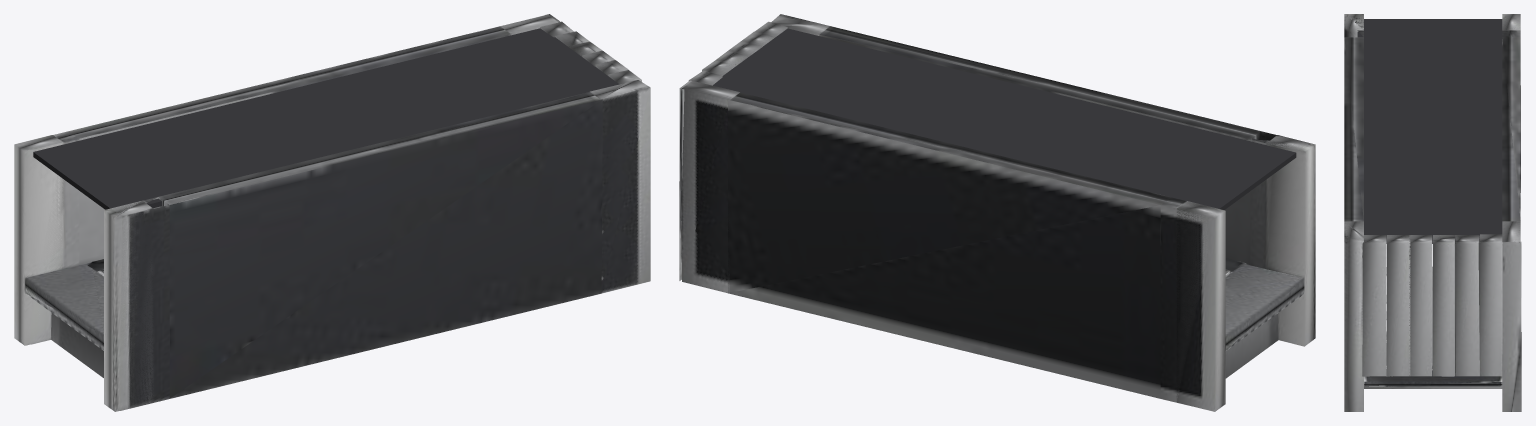
The model's file is mall-checkout-lane.glb.
3 views of the same model, side by side, from view 1: azimuth 30°, elevation 25°; view 2: azimuth 150°, elevation 25°; view 3: azimuth 270°, elevation 25° (orthographic). The views are drawn at different scales.
Parts seen in each view (by area): view 1: checkout-lane, belt; view 2: checkout-lane, belt; view 3: checkout-lane, belt.
Part boxes in pixels (bbox=[...]): checkout-lane: bbox=[14, 14, 650, 411]; belt: bbox=[33, 28, 619, 209]; checkout-lane: bbox=[679, 14, 1315, 411]; belt: bbox=[713, 28, 1296, 209]; checkout-lane: bbox=[1344, 14, 1521, 411]; belt: bbox=[1357, 19, 1502, 243].
Size of the model in its own units: 2.6 by 0.8979 by 0.8486.
Materials: 2 (1 with a texture image).
